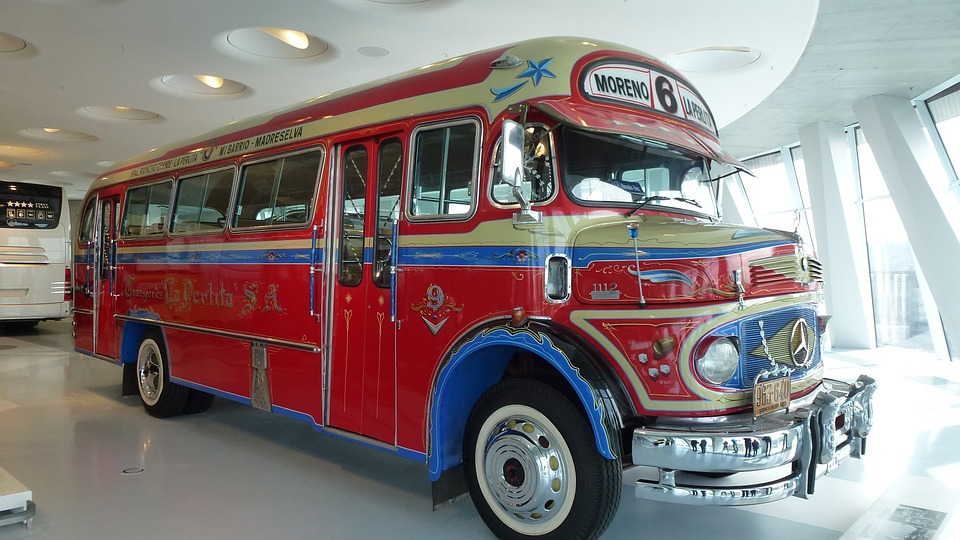bus: (77, 37, 866, 537)
